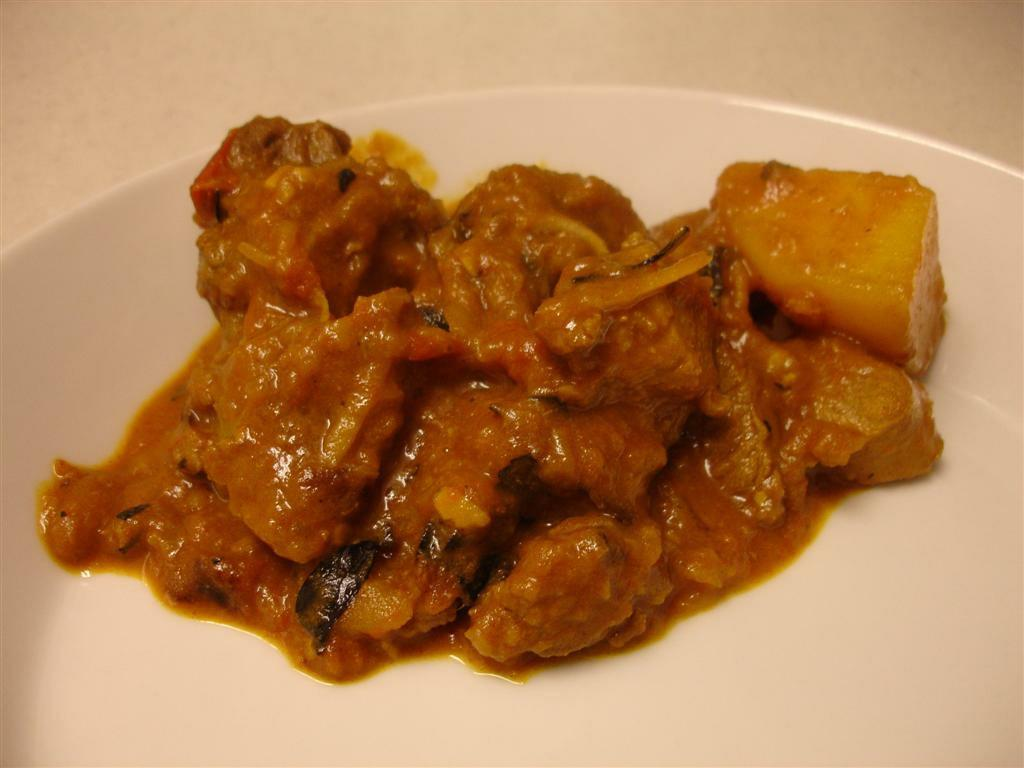MuttonCurry: (47, 110, 946, 684)
